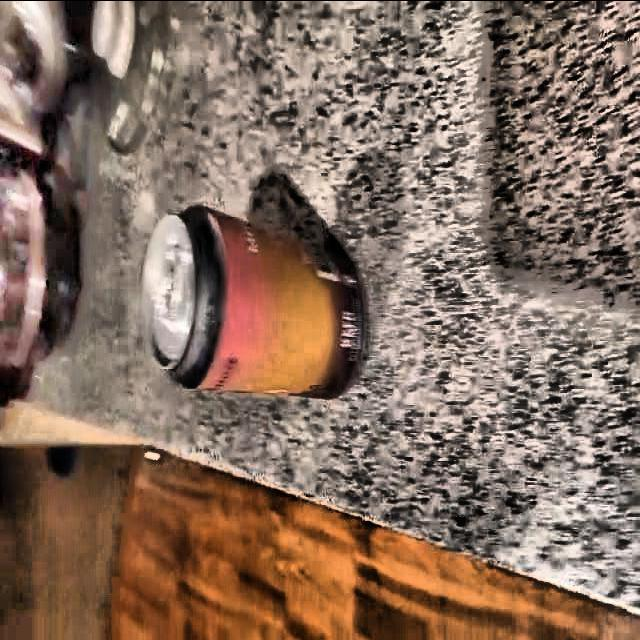Aluminum Can: (127, 196, 376, 400)
